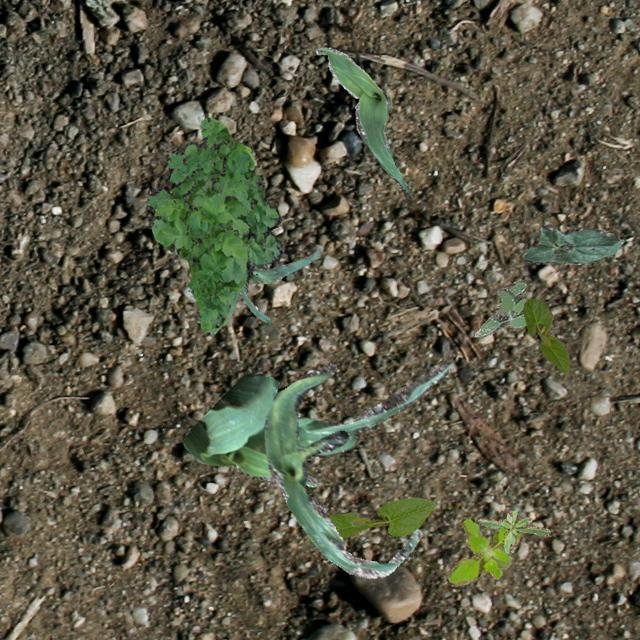crop: (262, 362, 420, 578), (182, 362, 450, 486), (316, 46, 412, 198), (238, 248, 322, 324), (328, 496, 434, 538), (522, 224, 622, 264), (522, 298, 568, 374)
weed: (144, 115, 282, 332), (445, 518, 521, 584), (478, 508, 548, 554), (472, 278, 526, 336)
